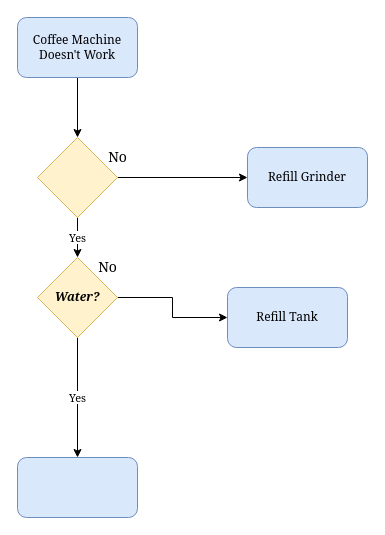
Image size: 385x535. Some labels were removed from this diagram. Each missing label, with the centre of its shape:
Beans?: (77,177)
Contact Maintenance: (77,487)
